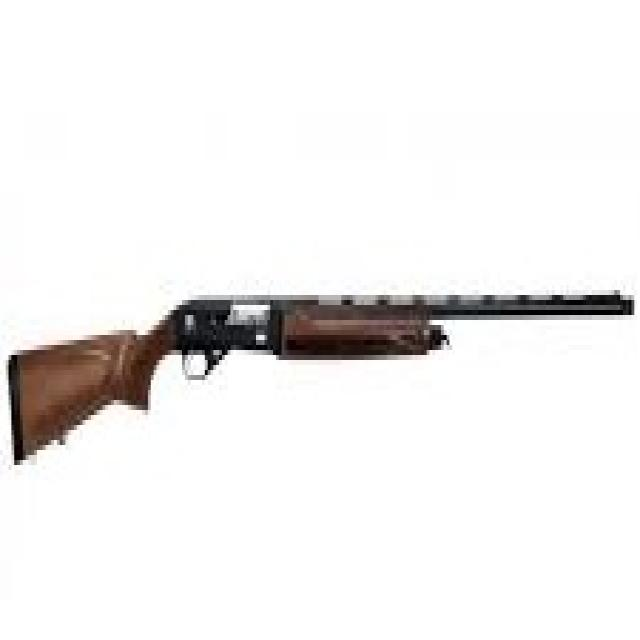rifle: (1, 282, 638, 481)
